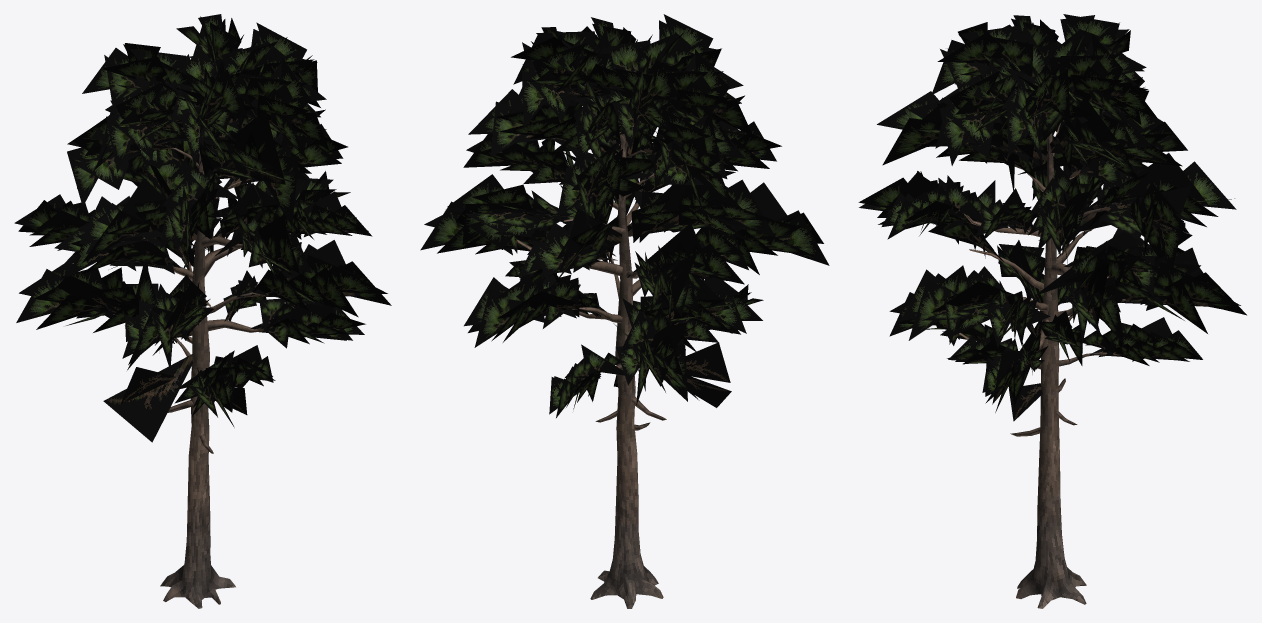
File: plants_area04_tree01.gltf
The picture shows the model from 3 angles, left to right: view 1: azimuth 30°, elevation 25°; view 2: azimuth 150°, elevation 25°; view 3: azimuth 270°, elevation 25°; orthographic projection. The views are drawn at different scales.
Parts seen in each view (by area): view 1: um_plants_area04_tree01_model_plants_area04_tree01_modelShap (×2); view 2: um_plants_area04_tree01_model_plants_area04_tree01_modelShap (×2); view 3: um_plants_area04_tree01_model_plants_area04_tree01_modelShap (×2).
Boxes of the visible parts, x1=… form: um_plants_area04_tree01_model_plants_area04_tree01_modelShap (×2): x1=14, y1=14, x2=391, y2=608; um_plants_area04_tree01_model_plants_area04_tree01_modelShap (×2): x1=420, y1=14, x2=829, y2=608; um_plants_area04_tree01_model_plants_area04_tree01_modelShap (×2): x1=858, y1=14, x2=1246, y2=608.
Bounding box in the file's own units: 7.76 × 13.15 × 8.1.
Materials: 2 (2 with a texture image).
